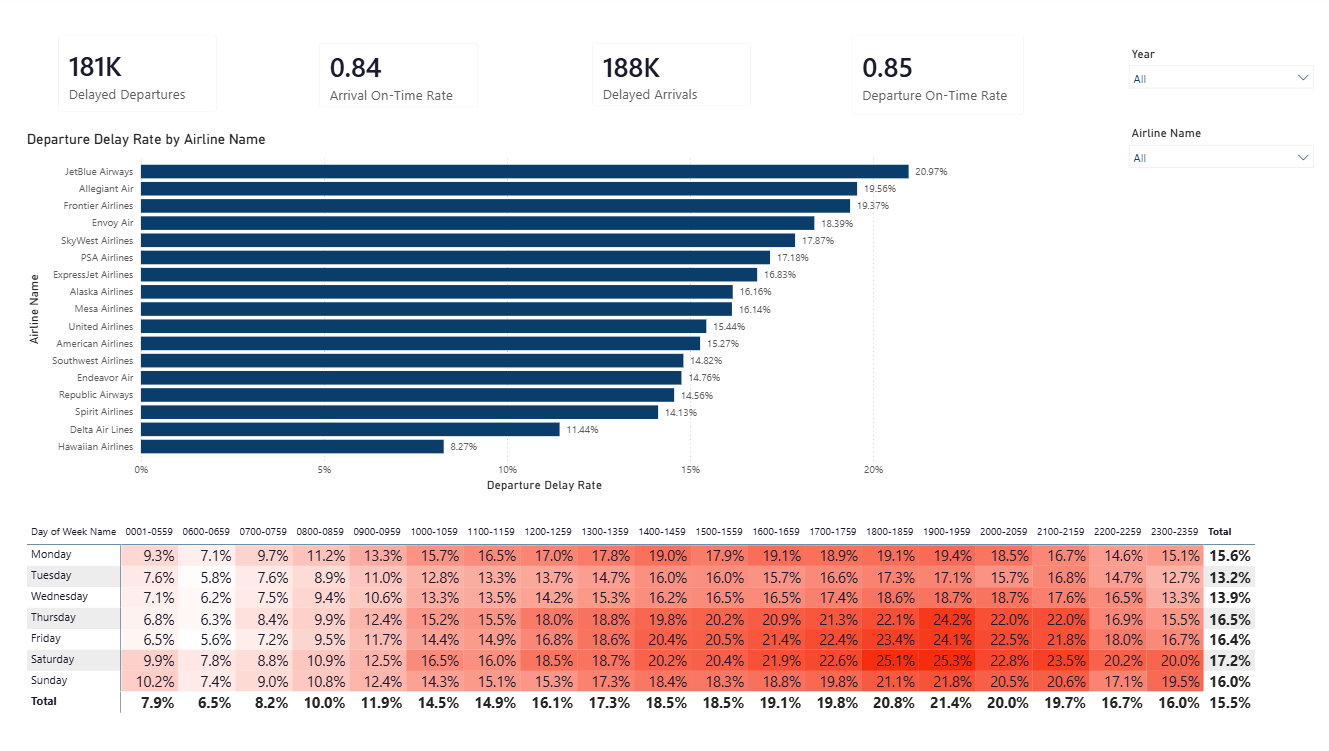

The page's visual inventory and layout, read from the dashboard file:
{"tool":"powerbi","page":{"name":"Delay Analysis","canvas":[1600,900],"ordinal":1},"visuals":[{"type":"cardVisual","fields":{"Data":["_Measures.Departure On-Time Rate"]},"box":[1006.1,25.8,240.6,129.2],"z":0},{"type":"cardVisual","fields":{"Data":["_Measures.Arrival On-Time Rate"]},"box":[369.8,33.8,224.7,111.3],"z":1000},{"type":"cardVisual","fields":{"Data":["_Measures.Delayed Departures"]},"box":[59.6,25.8,224.7,125.3],"z":2000},{"type":"cardVisual","fields":{"Data":["_Measures.Delayed Arrivals"]},"box":[695.9,33.8,224.7,109.4],"z":3000},{"type":"clusteredBarChart","fields":{"Category":["carrierlookup.Airline Name"],"Y":["_Measures.Departure Delay Rate"]},"box":[33.8,155.1,1121.4,435.4],"z":4000},{"type":"pivotTable","fields":{"Rows":["DateTable.Day of Week Name"],"Columns":["Flights.Departure Time Blocked"],"Values":["_Measures.Departure Delay Rate"]},"box":[33.8,620.3,1550.8,264.4],"z":5000},{"type":"slicer","fields":{"Values":["DateTable.Year"]},"box":[1344.1,49.7,240.6,81.5],"z":6000},{"type":"slicer","fields":{"Values":["carrierlookup.Airline Name"]},"box":[1344.1,145.1,240.6,83.5],"z":7000}]}

Visuals, with their boxes in screenshot pixels (x1, y1, x2, y2), scaled from the page's 1600x900 canvas onto the 1329x751 screenshot:
cardVisual - _Measures.Departure On-Time Rate: 836 22 1036 129
cardVisual - _Measures.Arrival On-Time Rate: 307 28 494 121
cardVisual - _Measures.Delayed Departures: 50 22 236 126
cardVisual - _Measures.Delayed Arrivals: 578 28 765 119
clusteredBarChart - carrierlookup.Airline Name x _Measures.Departure Delay Rate: 28 129 960 493
pivotTable - DateTable.Day of Week Name x Flights.Departure Time Blocked: 28 518 1316 738
slicer - DateTable.Year: 1116 41 1316 109
slicer - carrierlookup.Airline Name: 1116 121 1316 191
